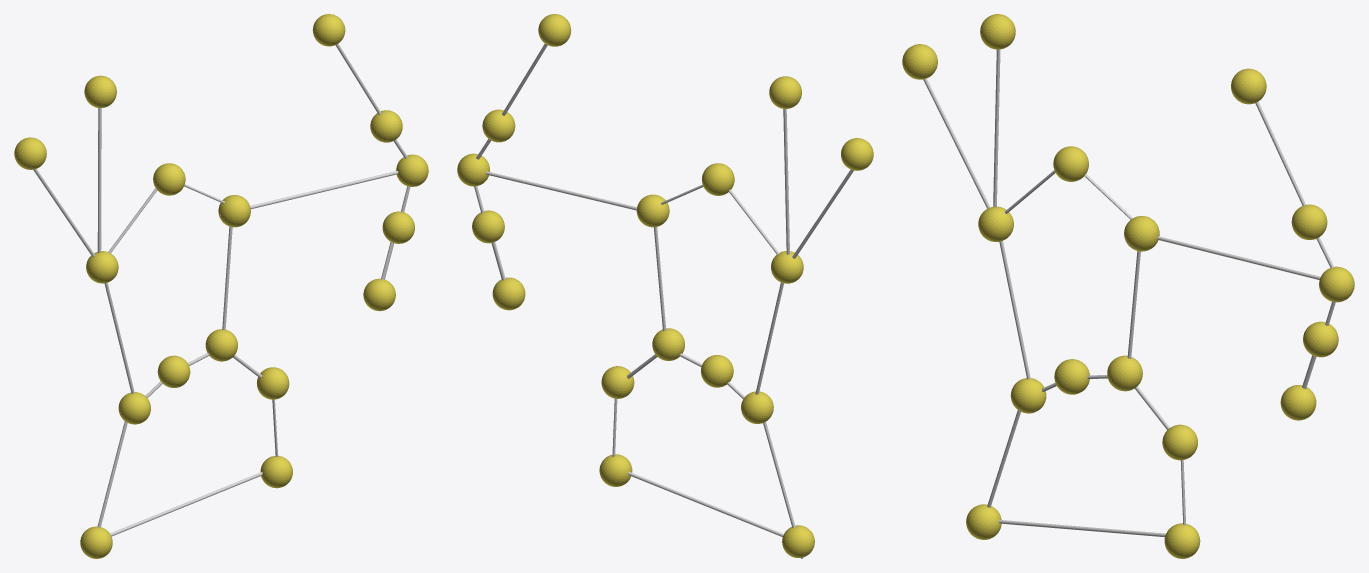
File: orion.glb
The picture shows the model from 3 angles, left to right: view 1: azimuth 30°, elevation 25°; view 2: azimuth 150°, elevation 25°; view 3: azimuth 330°, elevation 25°; orthographic projection. The views are drawn at different scales.
Parts seen in each view (by area): view 1: Mesh_Mesh_head_geo.001_lambert2SG.001; view 2: Mesh_Mesh_head_geo.001_lambert2SG.001; view 3: Mesh_Mesh_head_geo.001_lambert2SG.001.
Part boxes in pixels (x1,y1,x2,y2): Mesh_Mesh_head_geo.001_lambert2SG.001: [14, 14, 428, 558]; Mesh_Mesh_head_geo.001_lambert2SG.001: [457, 14, 873, 558]; Mesh_Mesh_head_geo.001_lambert2SG.001: [902, 14, 1354, 558].
Size of the model in its own units: 145 by 163 by 12.67.
